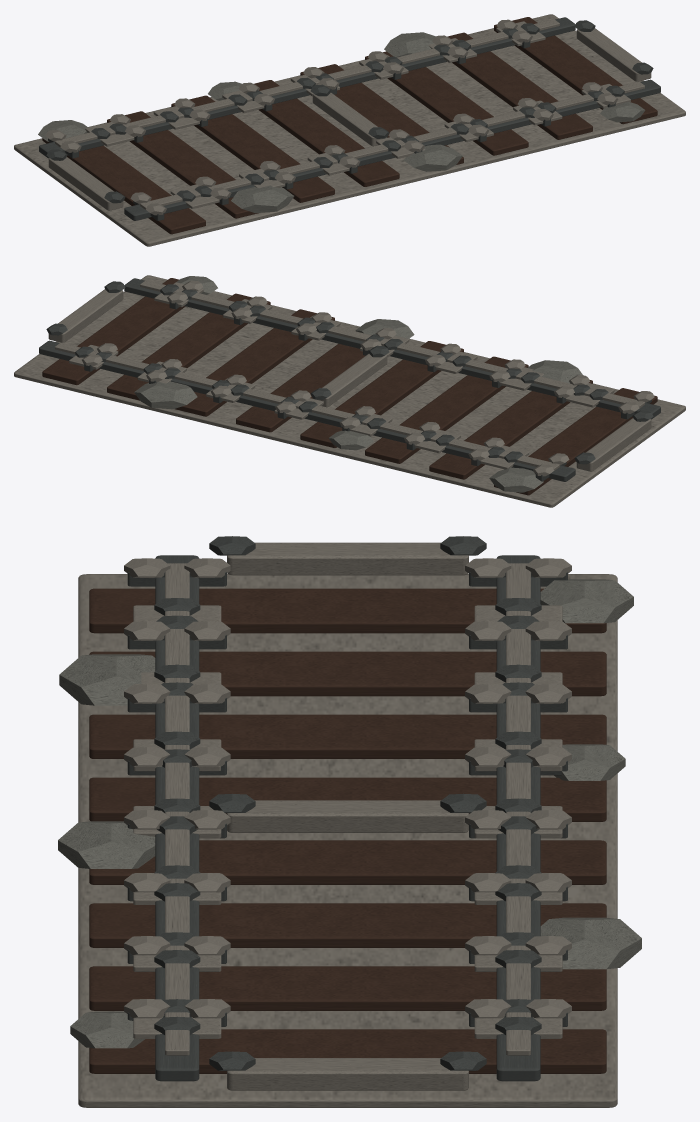
File: mine_rail.glb
The picture shows the model from 3 angles, top to bottom: view 1: azimuth 30°, elevation 25°; view 2: azimuth 150°, elevation 25°; view 3: azimuth 270°, elevation 25°; orthographic projection. The views are drawn at different scales.
Parts seen in each view (by area): view 1: mine_rail; view 2: mine_rail; view 3: mine_rail.
Part boxes in pixels (x1,y1,x2,y2): mine_rail: [14, 14, 685, 246]; mine_rail: [14, 275, 685, 507]; mine_rail: [58, 536, 641, 1107].
Size of the model in its own units: 2.8 by 0.12 by 1.3.
Materials: 1 (1 with a texture image).
